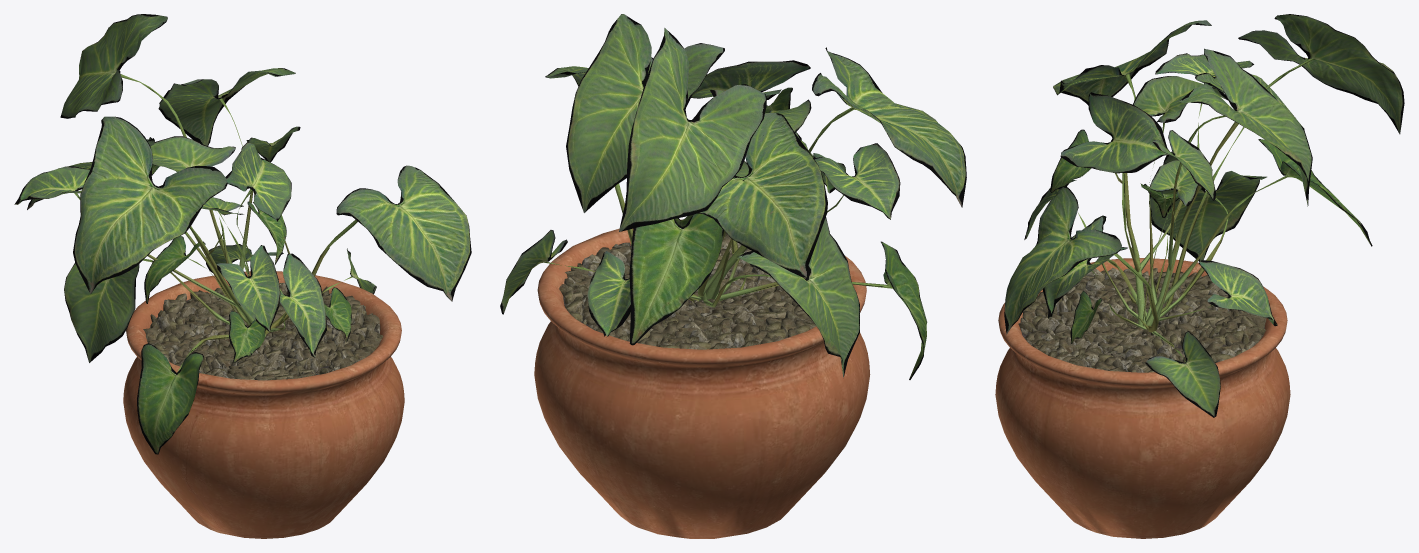
The model's file is plant-potted.glb.
3 renders of one model, left to right at view 1: azimuth 30°, elevation 25°; view 2: azimuth 150°, elevation 25°; view 3: azimuth 270°, elevation 25°, orthographic. The views are drawn at different scales.
Parts seen in each view (by area): view 1: potted_plant_02_leaves, potted_plant_02_pot; view 2: potted_plant_02_leaves, potted_plant_02_pot; view 3: potted_plant_02_pot, potted_plant_02_leaves.
Part boxes in pixels (left/top/right/bottom): potted_plant_02_leaves: left=14, top=14, right=471, bottom=454; potted_plant_02_pot: left=123, top=271, right=404, bottom=538; potted_plant_02_leaves: left=500, top=14, right=966, bottom=379; potted_plant_02_pot: left=534, top=219, right=870, bottom=538; potted_plant_02_pot: left=995, top=258, right=1290, bottom=538; potted_plant_02_leaves: left=1004, top=14, right=1404, bottom=417.
Bounding box in the file's own units: 0.701 × 0.841 × 0.657.
2 materials, 2 textured.
